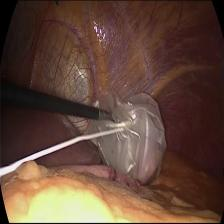Grasper: (96, 106, 120, 121)
Specimen Bag: (83, 86, 168, 188)
